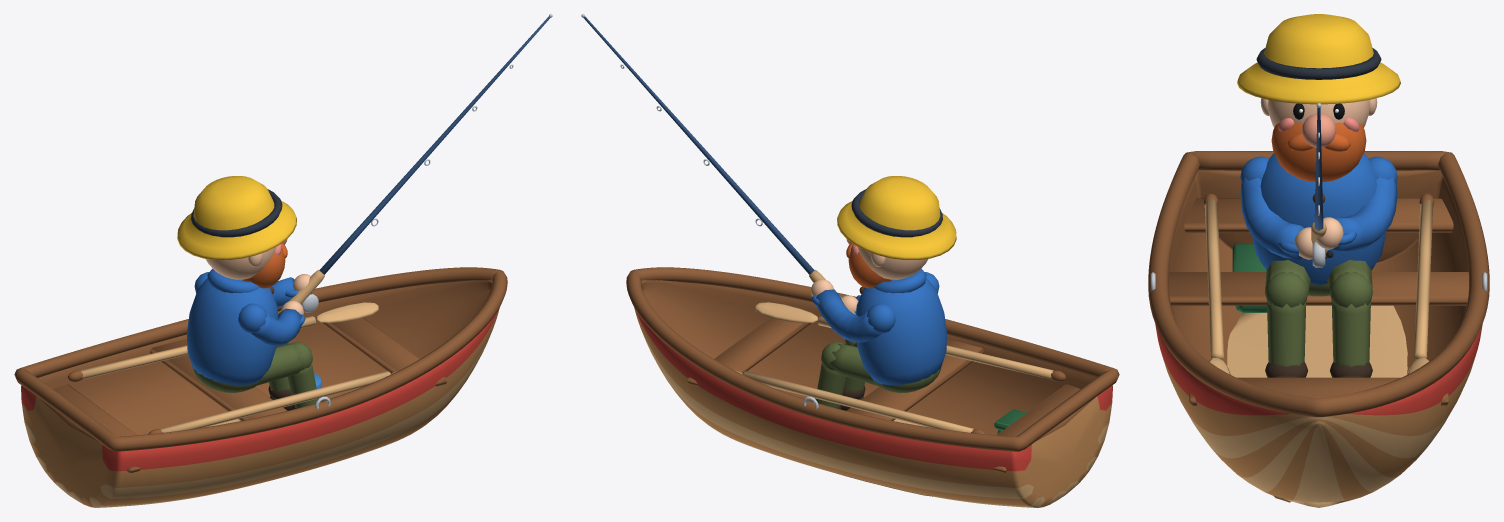
The model's file is boat.glb.
3 renders of one model, left to right at view 1: azimuth 30°, elevation 25°; view 2: azimuth 150°, elevation 25°; view 3: azimuth 270°, elevation 25°, orthographic. The views are drawn at different scales.
Visible parts, largest first — view 1: Boat, Rod; view 2: Boat, Rod; view 3: Boat, Rod.
Part boxes in pixels (x1,y1,x2,y2): Boat: (14,176,507,507); Rod: (278,14,552,313); Boat: (626,176,1119,507); Rod: (581,14,855,314); Boat: (1148,14,1489,507); Rod: (1311,103,1333,267).
Size of the model in its own units: 3.55 by 2.59 by 1.58.
